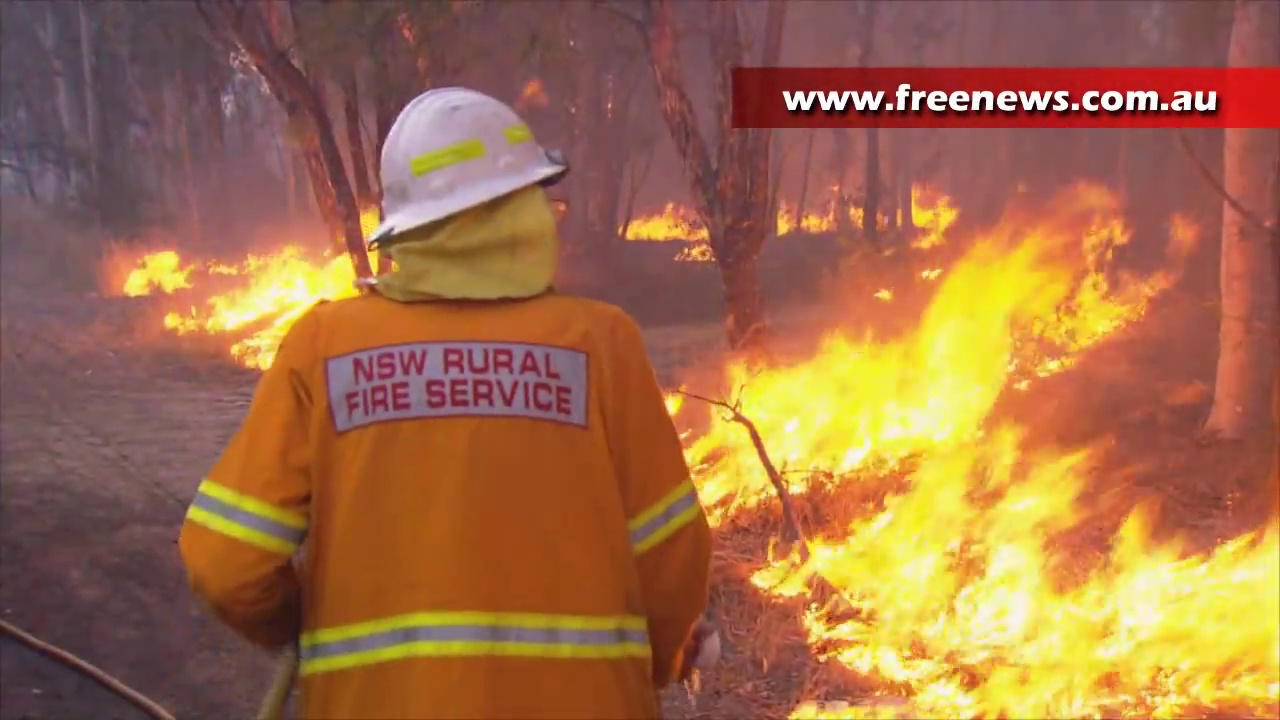fire: (684, 186, 1201, 514), (778, 417, 1275, 718), (181, 210, 384, 364), (130, 255, 183, 291), (630, 213, 700, 237), (911, 202, 959, 228), (801, 214, 826, 231), (778, 209, 790, 232)
